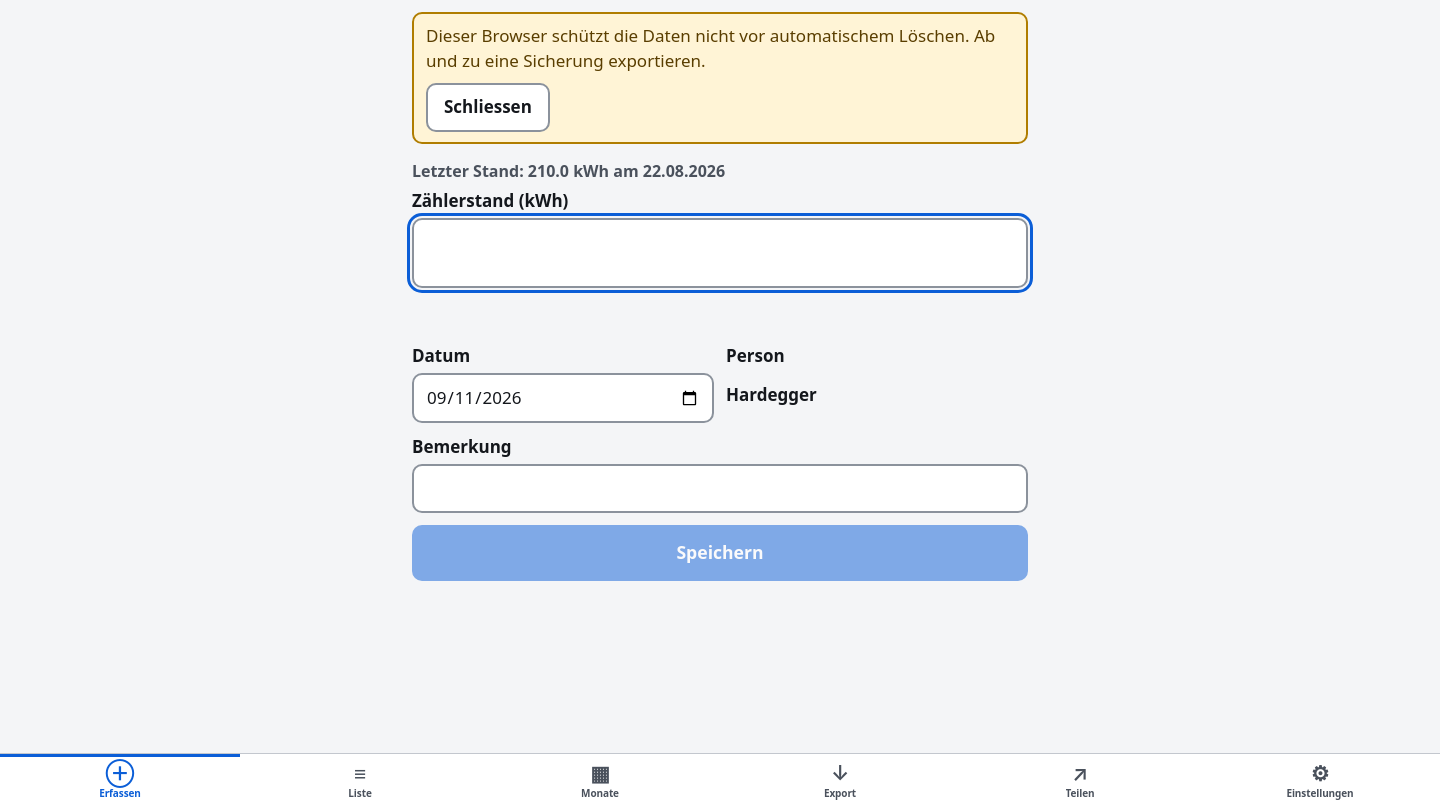
Test: deleting a reading (FR-4.2, FR-4.3) › asks before deleting
Click the button "≡ Liste" at (360, 782), box [240,754,480,809]
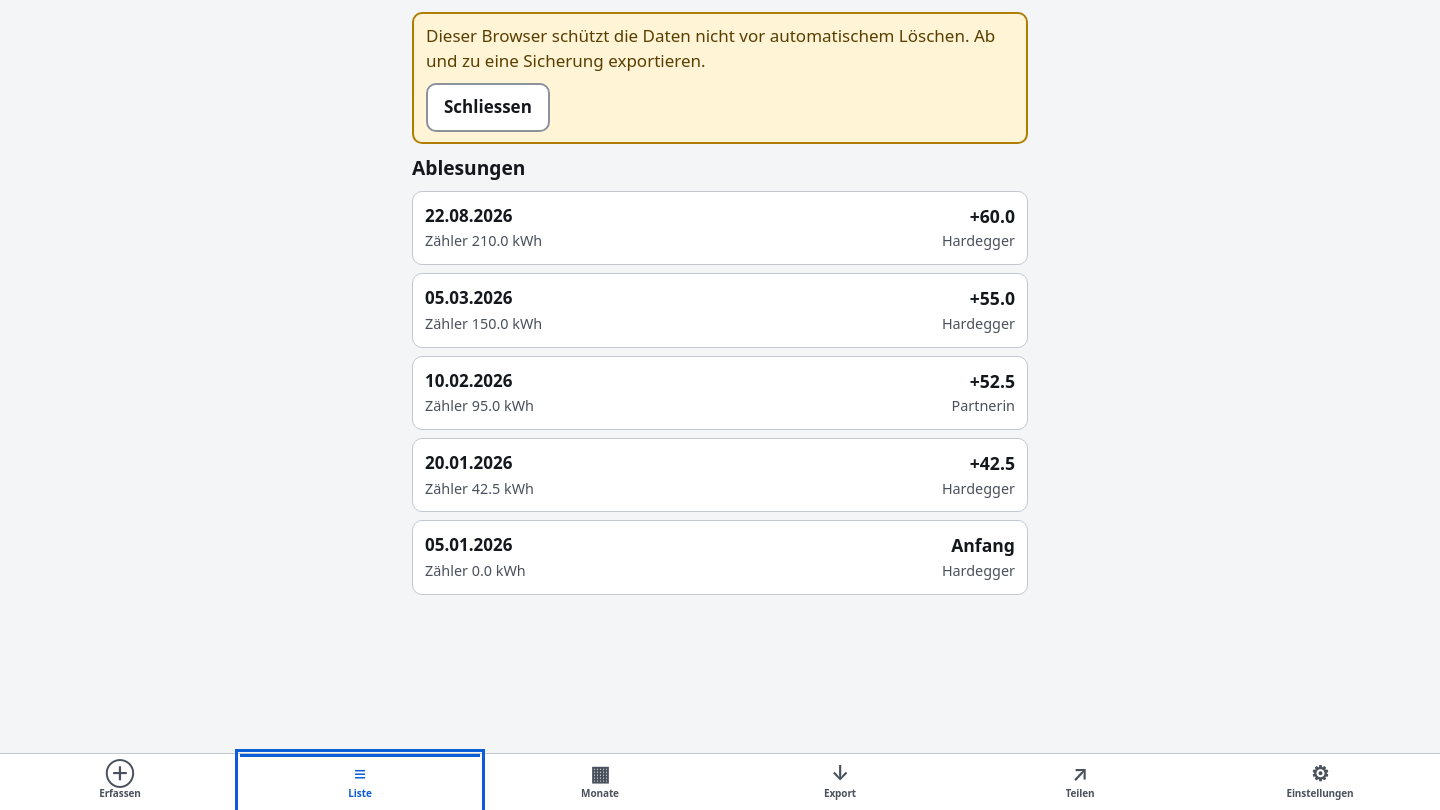
Click the button "05.03.2026 +55.0 Zähler 150.0 kWh Hardegger" at (469, 298), box [412,273,1028,348]
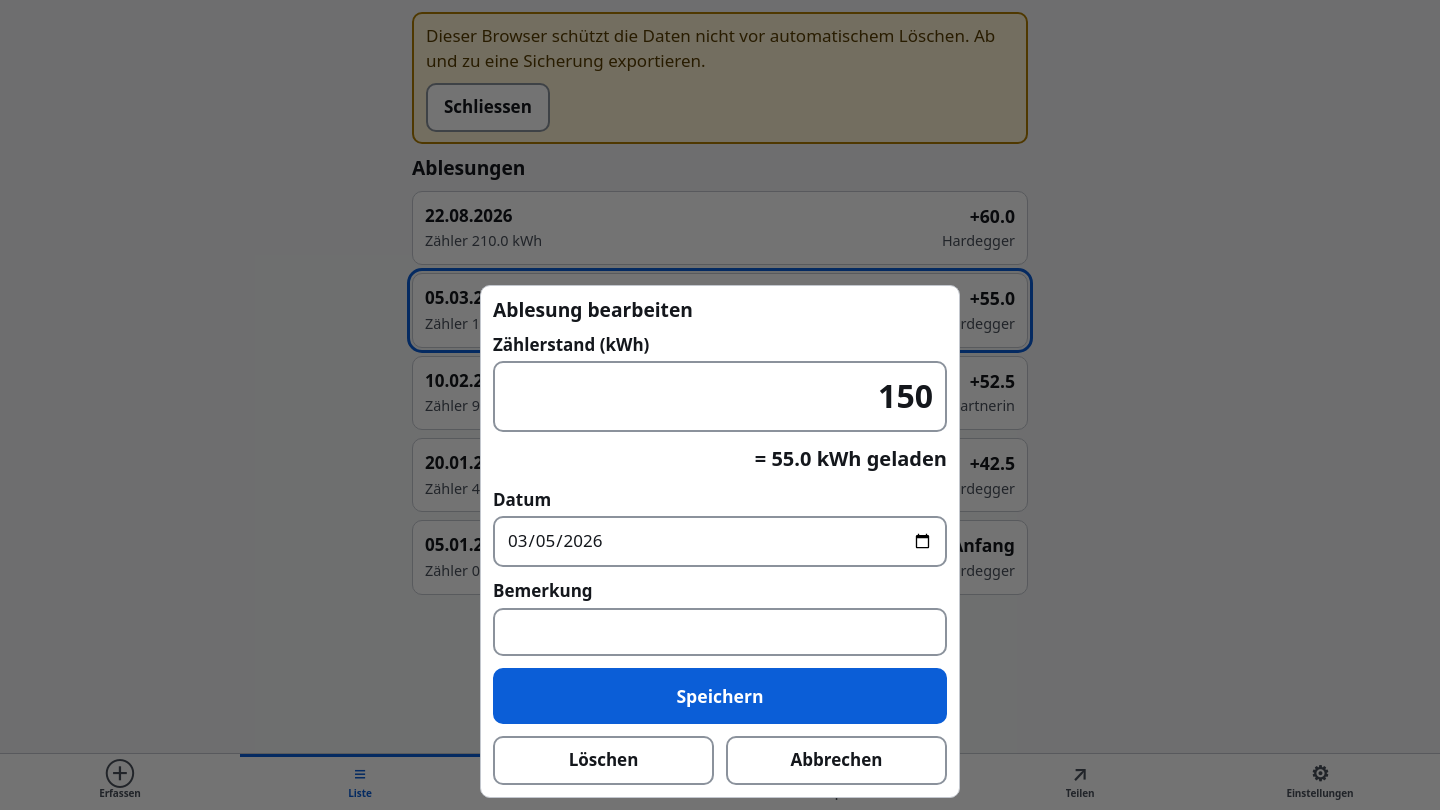
Click the button "Löschen" at (604, 761), box [493,736,714,785]
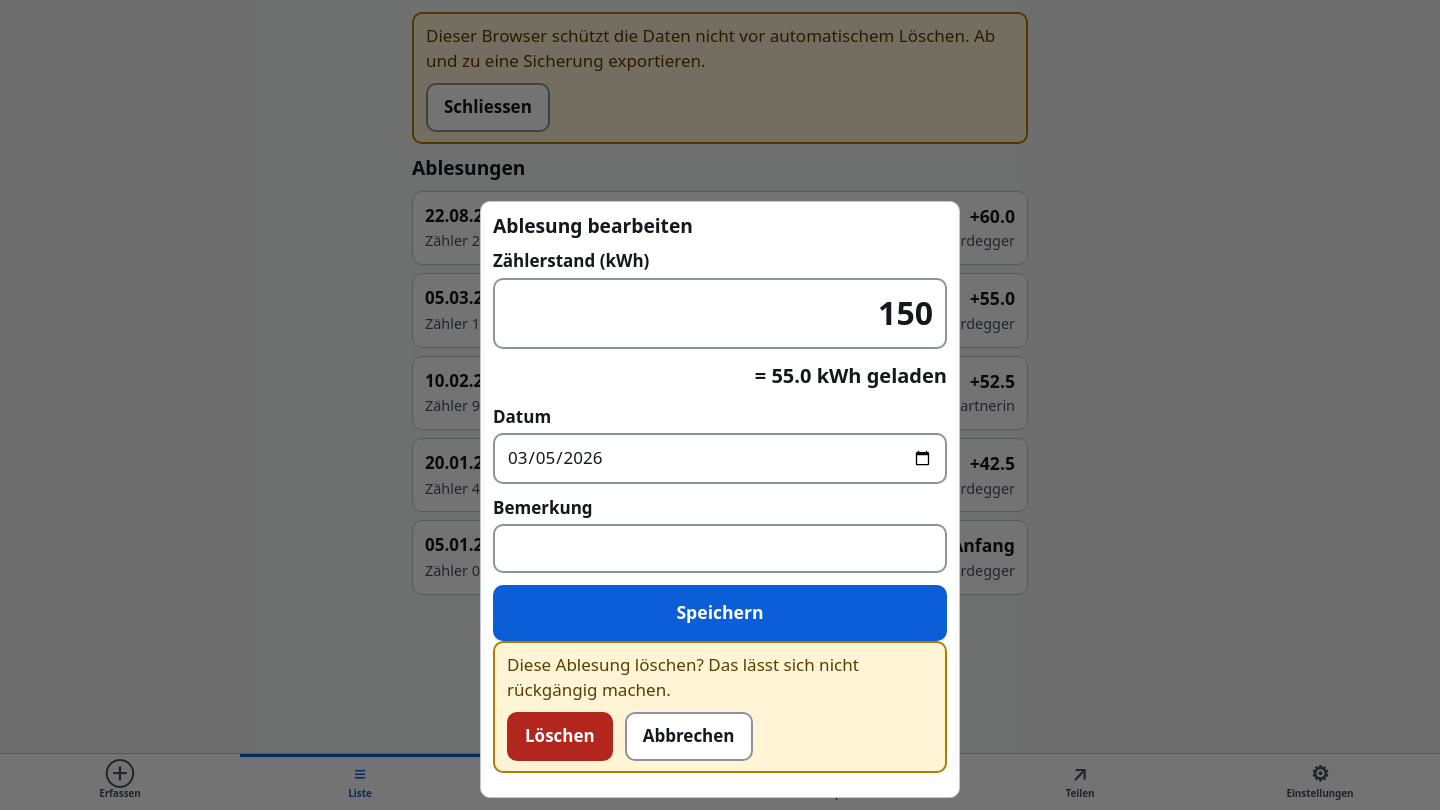
Now the text "Diese Ablesung löschen?" is shown, box [507,653,859,701]
